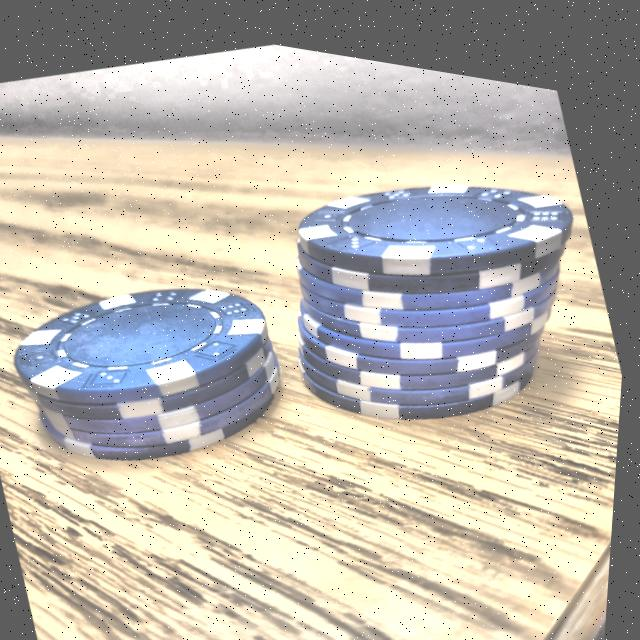Chip: (233, 93, 623, 465), (0, 214, 331, 521)
